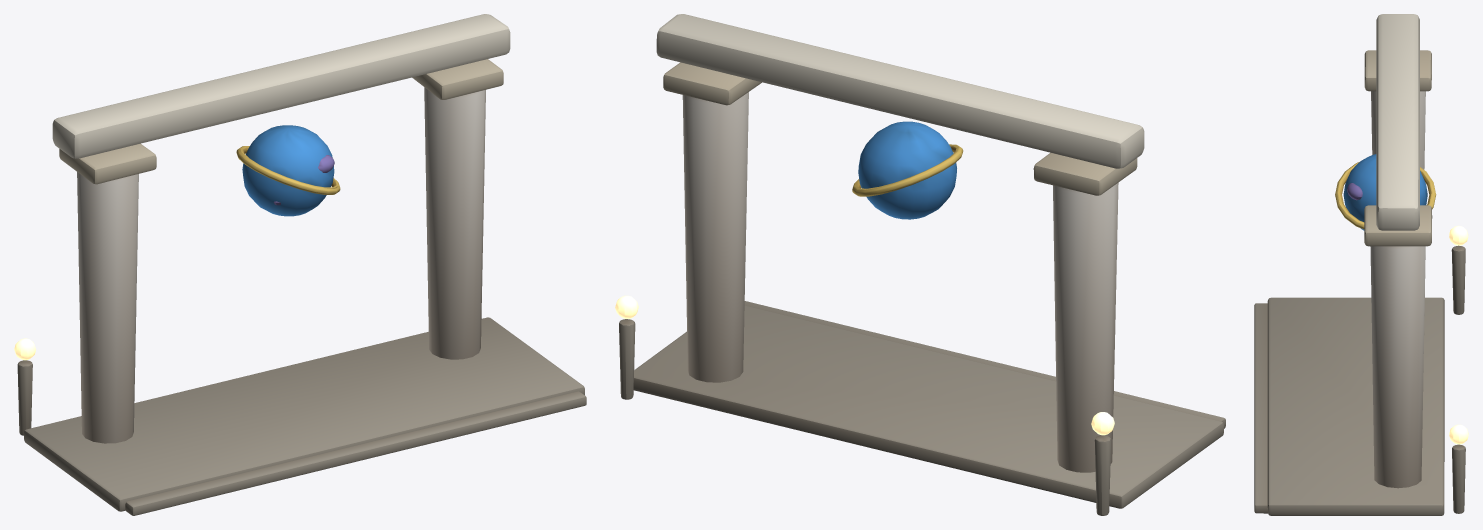
3 views of the same model, side by side, from view 1: azimuth 30°, elevation 25°; view 2: azimuth 150°, elevation 25°; view 3: azimuth 270°, elevation 25° (orthographic). The views are drawn at different scales.
Parts seen in each view (by area): view 1: gate_f4aaa3ad; view 2: gate_f4aaa3ad; view 3: gate_f4aaa3ad.
Boxes of the visible parts, left/top/right/bottom form: gate_f4aaa3ad: left=14, top=14, right=586, bottom=515; gate_f4aaa3ad: left=615, top=14, right=1225, bottom=515; gate_f4aaa3ad: left=1254, top=14, right=1468, bottom=515.
Bounding box in the file's own units: 5.86 × 3.99 × 2.55.
